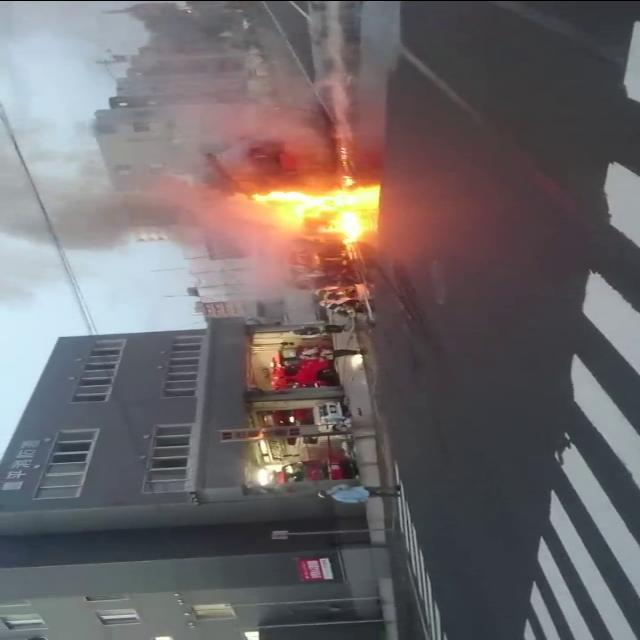Fire: (252, 172, 358, 242)
